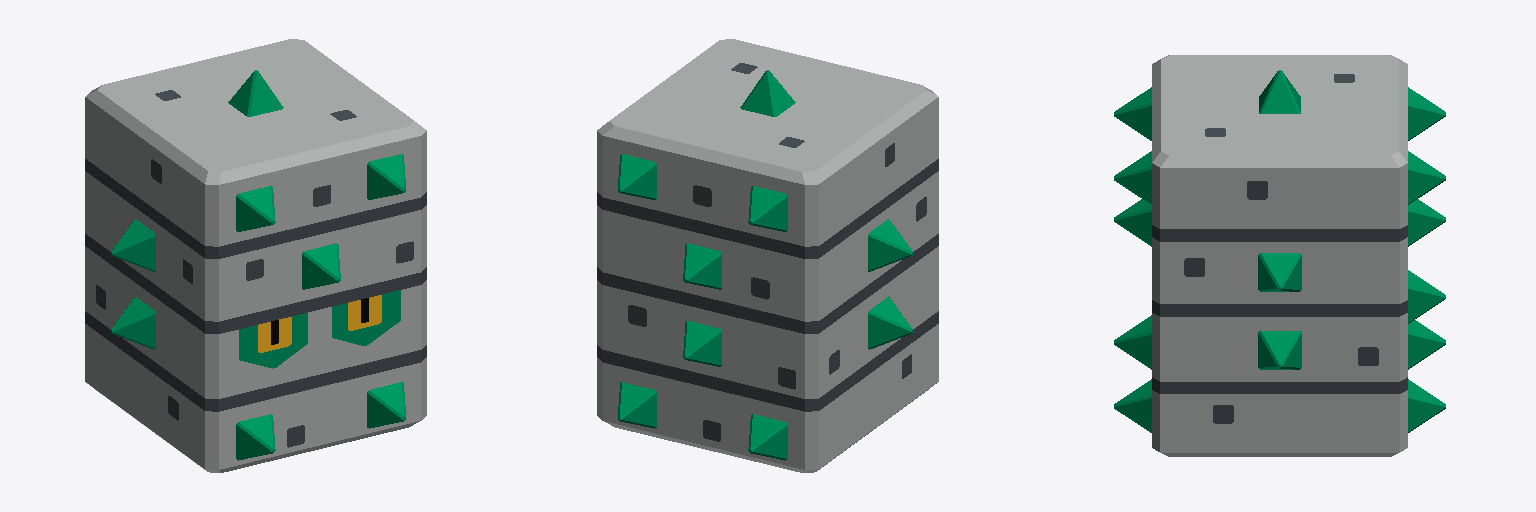
3 views of the same model, side by side, from view 1: azimuth 30°, elevation 25°; view 2: azimuth 150°, elevation 25°; view 3: azimuth 270°, elevation 25° (orthographic).
Parts seen in each view (by area): view 1: model; view 2: model; view 3: model.
Part boxes in pixels (x1,y1,x2,y2): model: (85,39,426,472); model: (597,39,938,472); model: (1114,55,1445,456).
Bounding box in the file's own units: 1.43 × 1.74 × 1.42.
Materials: 1 (1 with a texture image).